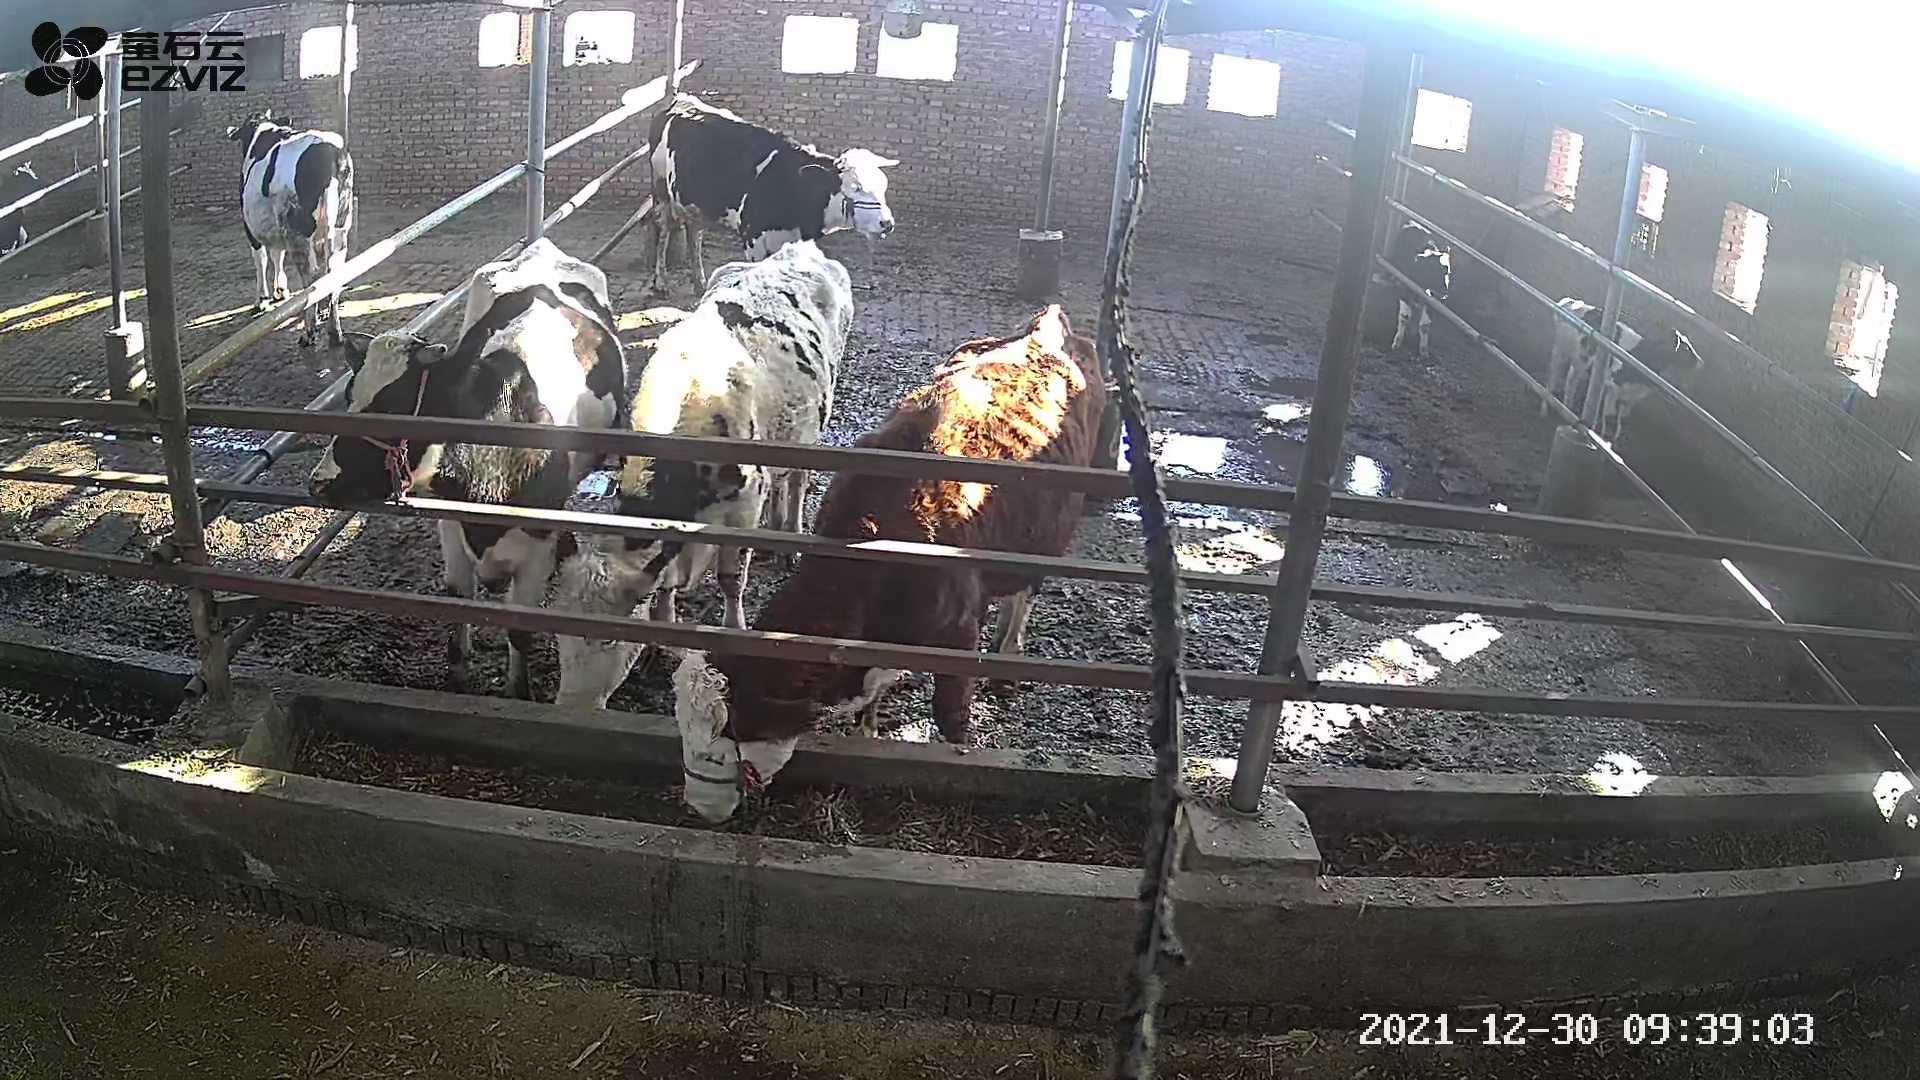cow: (662, 302, 1104, 825), (303, 235, 626, 702), (553, 236, 852, 708), (644, 87, 901, 295)
